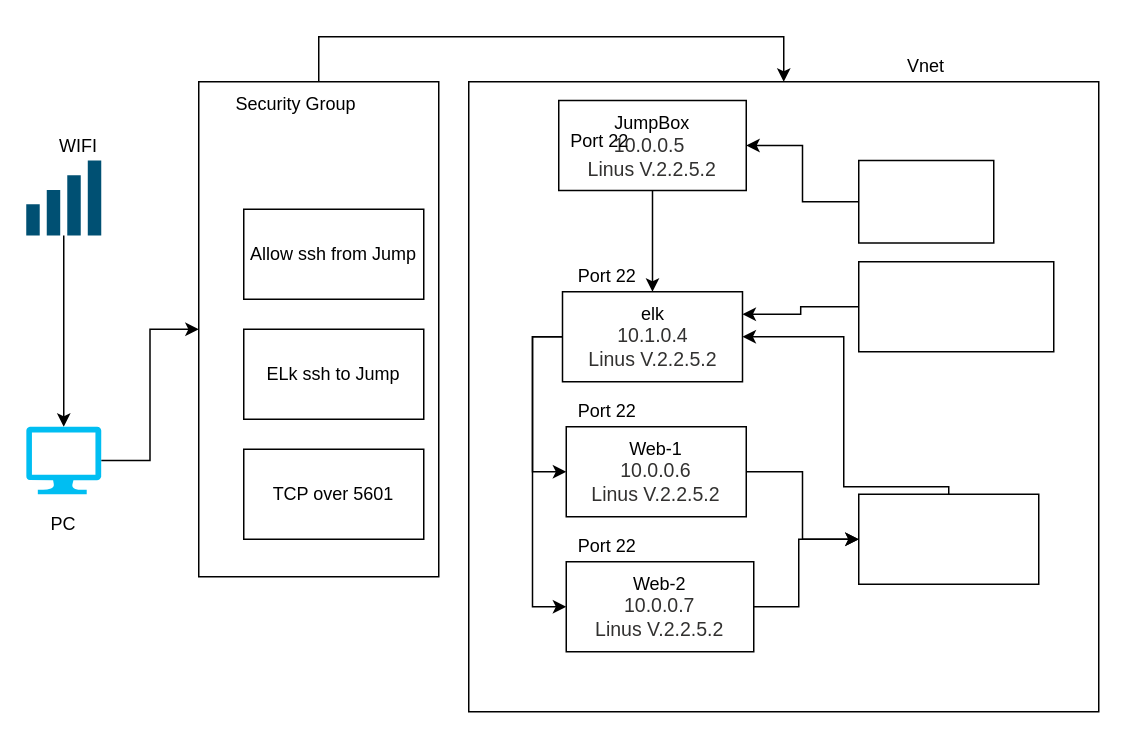
Some shapes in this 1125 by 738 pixel diagram are drawn without their labels. Here are the shapes that lost their labels. From the top down, the box of each, then its label:
(857, 159, 994, 243): Ansible Control
(857, 260, 1054, 352): Elk Stack Container
(857, 493, 1039, 584): Filebeat & MetricBeat 9200: 5601
